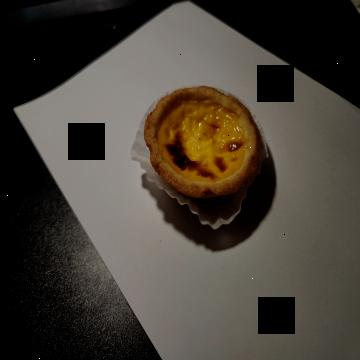EggTart: (144, 85, 262, 201)
